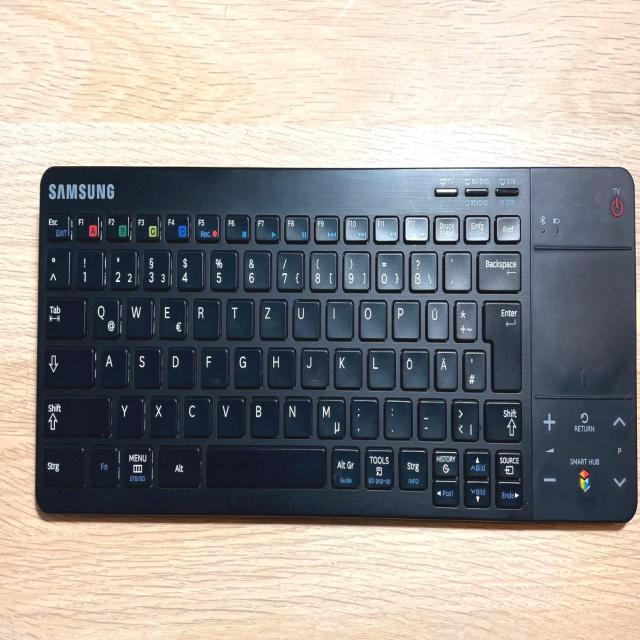0: (373, 248, 402, 290)
1: (73, 245, 102, 287)
2: (107, 246, 136, 288)
3: (141, 246, 170, 289)
4: (174, 246, 203, 288)
5: (207, 247, 236, 289)
6: (241, 247, 270, 289)
7: (275, 247, 303, 289)
8: (308, 248, 336, 289)
9: (340, 248, 369, 289)
a: (98, 343, 126, 385)
accent: (441, 247, 470, 289)
ae: (433, 346, 456, 388)
alt-left: (156, 442, 201, 486)
altgr-right: (329, 443, 358, 487)
b: (248, 393, 278, 435)
c: (181, 393, 210, 435)
caret: (43, 246, 69, 287)
comma: (348, 394, 377, 437)
d: (165, 343, 194, 387)
del: (475, 247, 520, 290)
e: (157, 294, 186, 338)
enter: (481, 296, 521, 390)
f: (198, 343, 227, 386)
g: (231, 344, 260, 386)
h: (265, 345, 293, 386)
hash: (461, 346, 484, 389)
i: (324, 297, 352, 338)
j: (299, 345, 327, 387)
k: (332, 345, 360, 387)
keyboard: (27, 158, 637, 530)
l: (366, 345, 394, 387)
less: (449, 396, 478, 438)
m: (314, 394, 344, 437)
minus: (415, 395, 446, 438)
n: (281, 394, 310, 436)
o: (356, 296, 385, 338)
oe: (398, 346, 427, 388)
p: (390, 296, 418, 338)
plus: (452, 296, 475, 339)
point: (381, 396, 411, 437)
q: (90, 294, 118, 337)
r: (190, 295, 219, 338)
s: (131, 343, 159, 386)
shift-left: (41, 392, 109, 435)
shift-lock: (41, 343, 92, 385)
shift-right: (484, 397, 523, 440)
space: (205, 442, 325, 486)
ss: (407, 248, 436, 289)
strg-left: (38, 442, 84, 484)
strg-right: (396, 444, 427, 489)
t: (224, 295, 252, 337)
tab: (43, 294, 85, 335)
u: (290, 296, 319, 339)
ue: (424, 296, 447, 339)
v: (215, 393, 243, 435)
w: (123, 294, 151, 337)
x: (148, 392, 176, 435)
y: (114, 393, 143, 435)
z: (258, 296, 286, 338)
